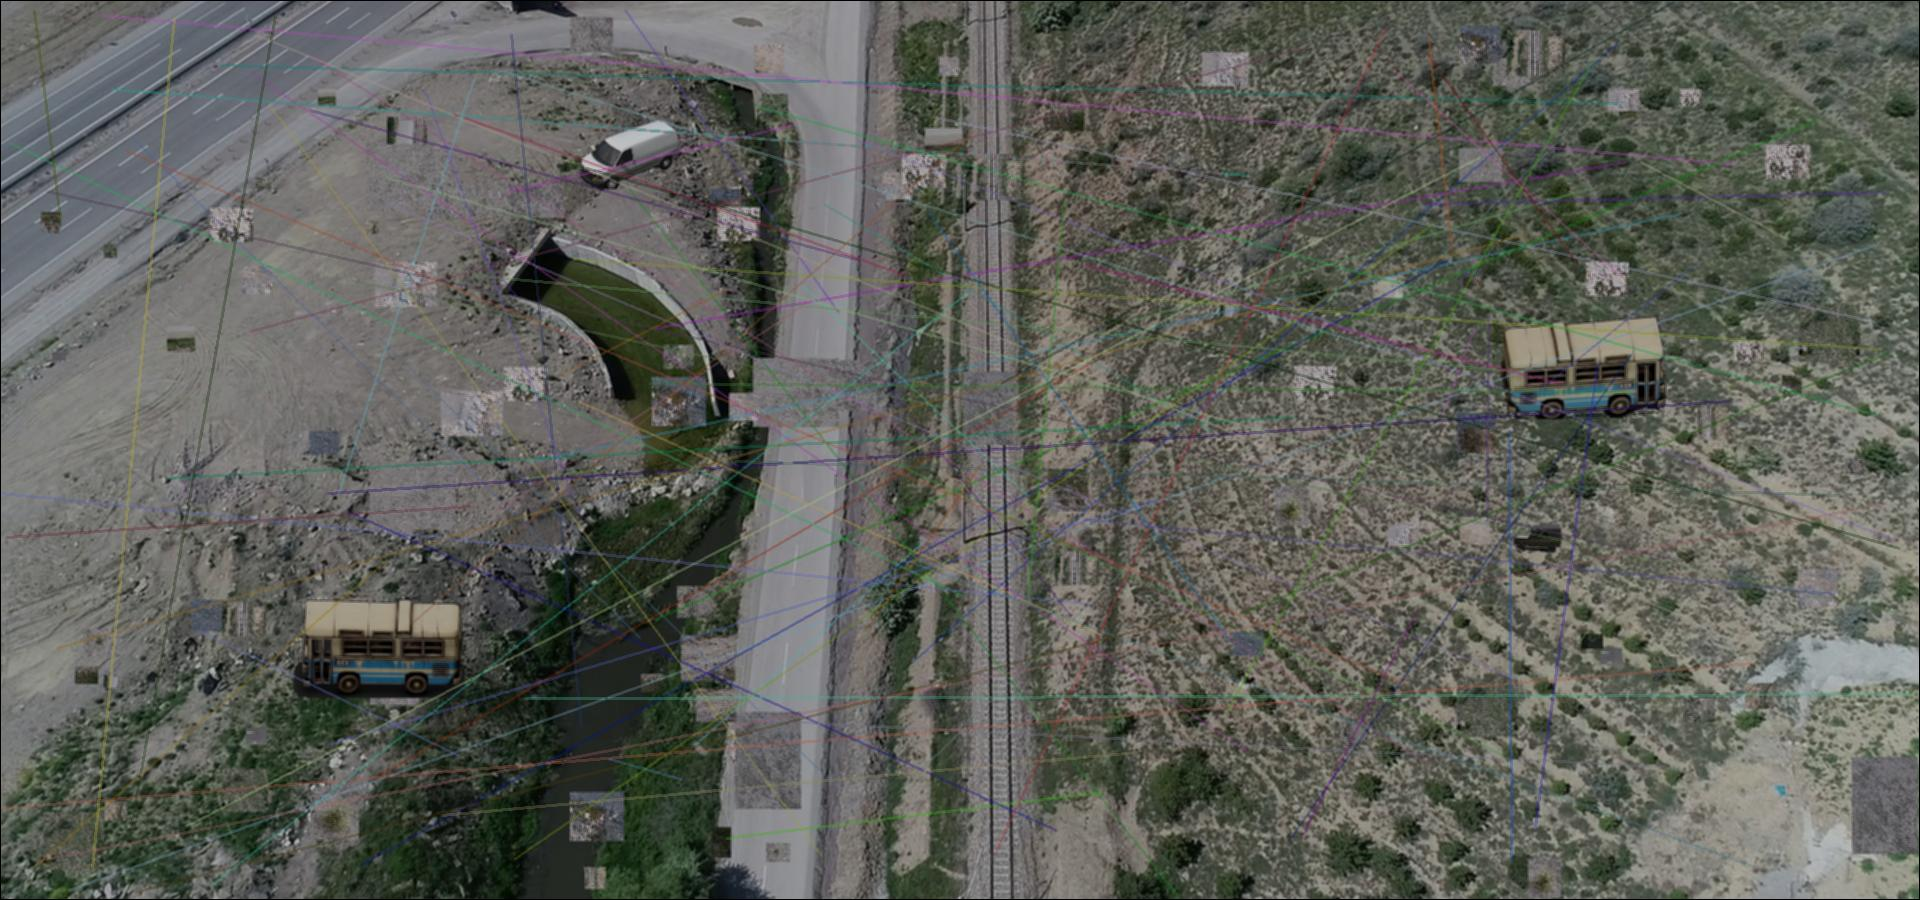arac: (1496, 313, 1667, 419), (291, 596, 465, 698), (580, 120, 681, 189), (1513, 524, 1562, 553)
